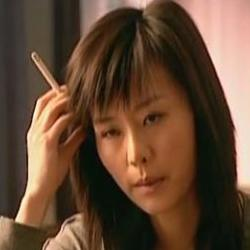smoking: (24, 49, 87, 184)
